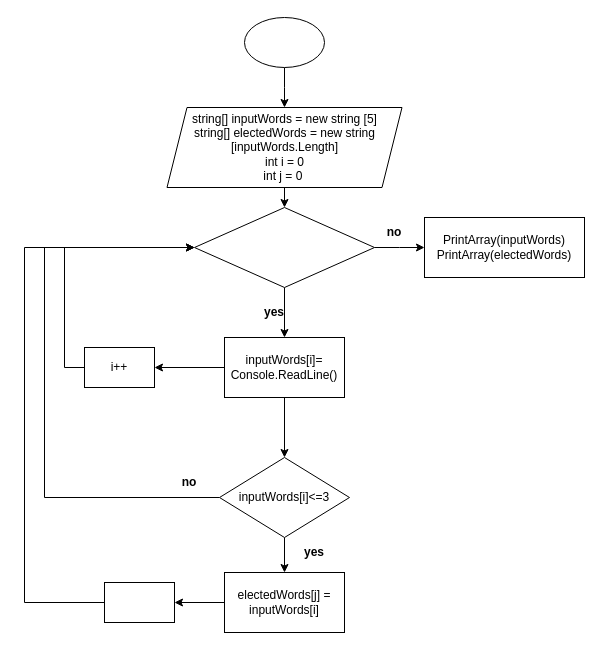
Image size: 602x650. Some labels were removed from this diagram. The centre of each missing label's shape, as x and y in pixels:
"i < inputWords.Length" goes at pixel 284 247.
"j++" goes at pixel 139 602.
"start" goes at pixel 284 42.
